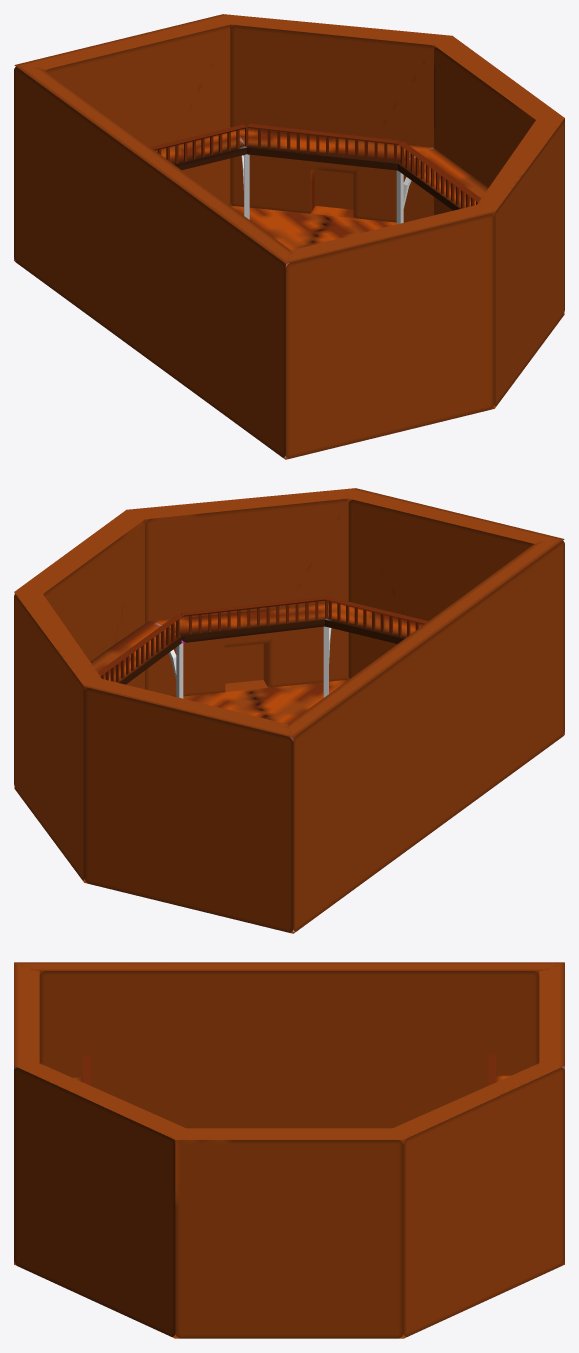
The model's file is room.fbx.
3 renders of one model, top to bottom at view 1: azimuth 30°, elevation 25°; view 2: azimuth 150°, elevation 25°; view 3: azimuth 270°, elevation 25°, orthographic.
Visible parts, largest first — view 1: cylinder, cuboid, cuboid_45, cuboid_77; view 2: cylinder, cuboid, cuboid_61, cuboid_77, cuboid_24; view 3: cylinder.
Part boxes in pixels (x1,y1,x2,y2): cylinder: (14, 14, 564, 459); cuboid: (155, 128, 488, 210); cuboid_45: (247, 123, 399, 144); cuboid_77: (398, 141, 480, 202); cylinder: (14, 488, 564, 933); cuboid: (90, 601, 428, 684); cuboid_61: (181, 596, 329, 616); cuboid_77: (98, 614, 183, 676); cuboid_24: (324, 596, 428, 624); cylinder: (14, 962, 564, 1338).
Size of the model in its own units: 258 by 134 by 338.
3 materials, 3 textured.
